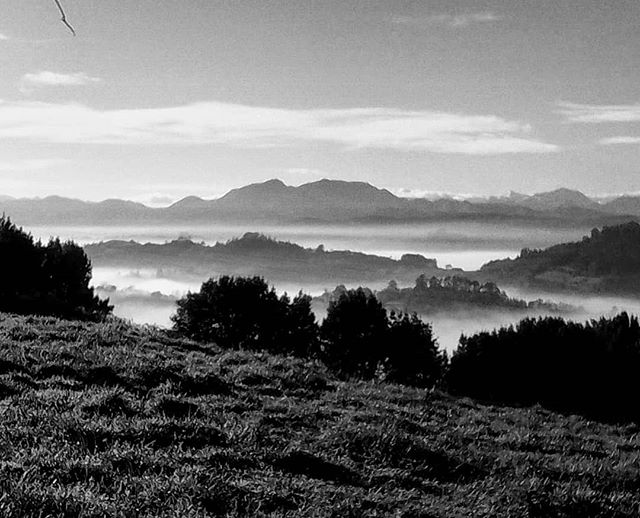grass: (5, 321, 640, 518)
mountain: (149, 163, 430, 234), (508, 180, 599, 217)
sky: (1, 1, 625, 186)
